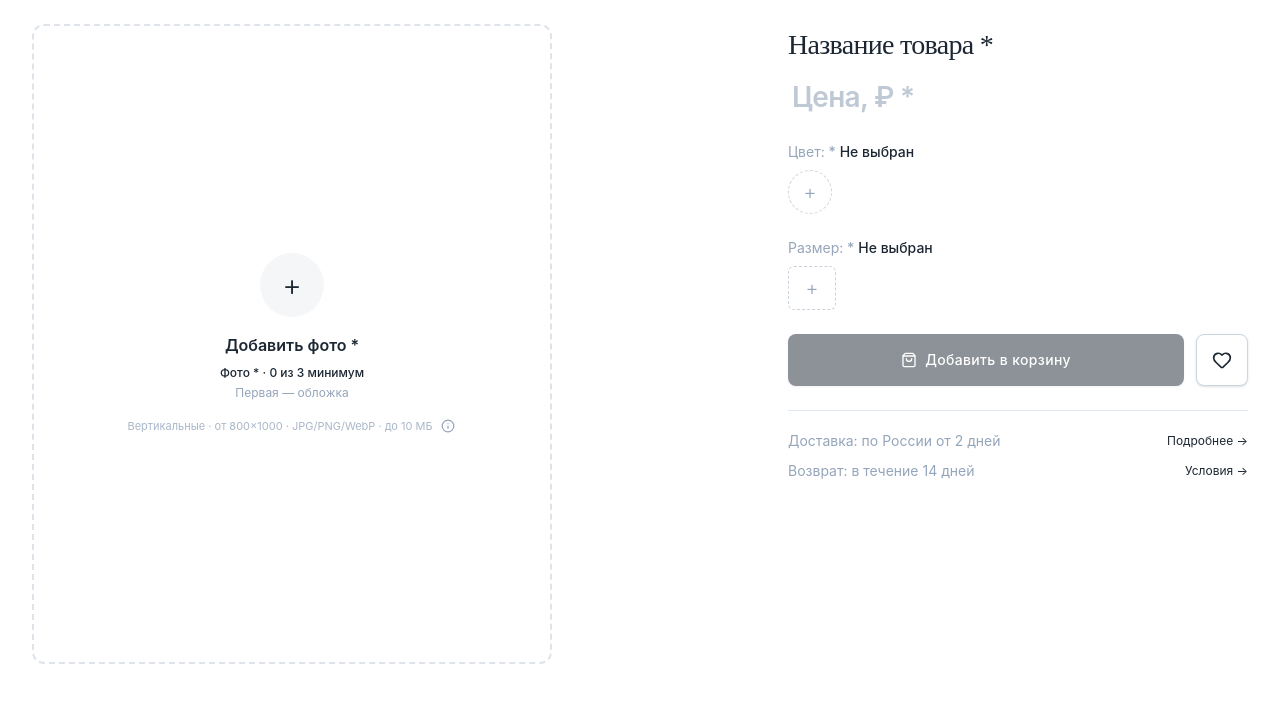
PS.R4A.6B — Validation & Required-State Visual Language › B. Touch title: blur without text transitions title to attention, other fields remain neutral
# Click title heading to activate inline editing
Click the heading "Название товара *" at (891, 44), box [788,29,993,60]
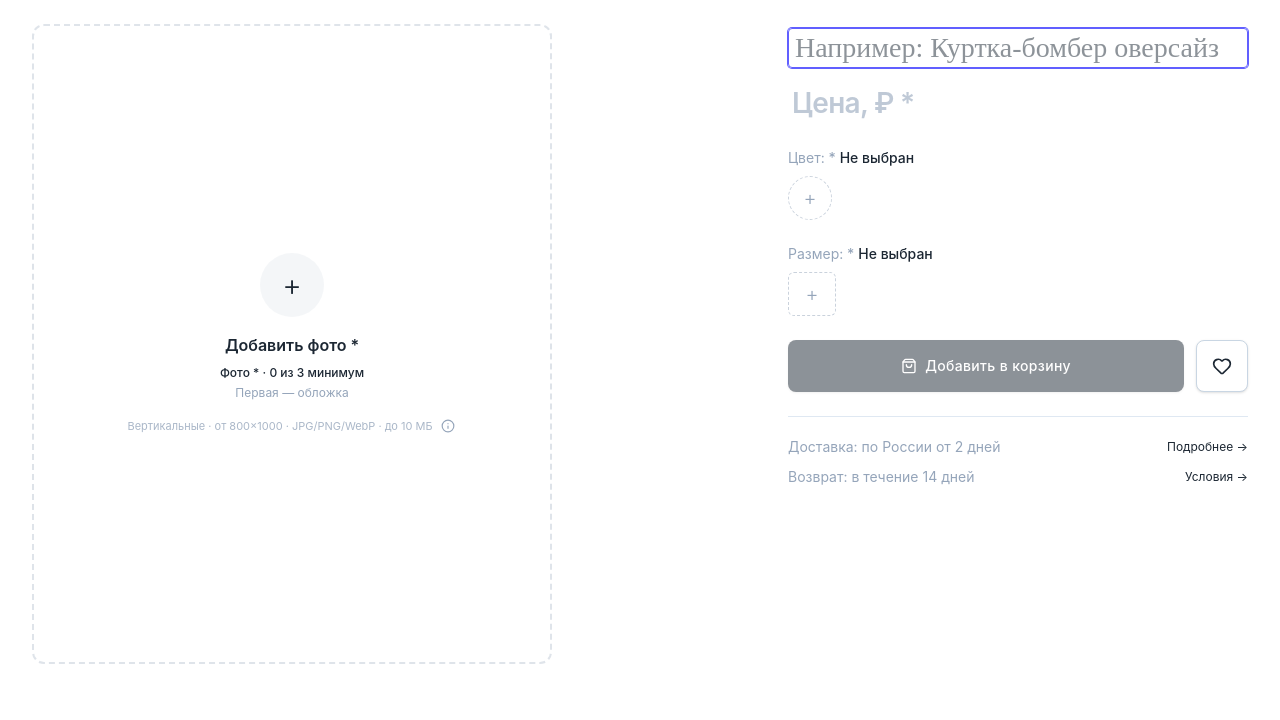
# Find input and blur without typing
Leave the field with test id "visual-inline-input", box [788,28,1248,68]
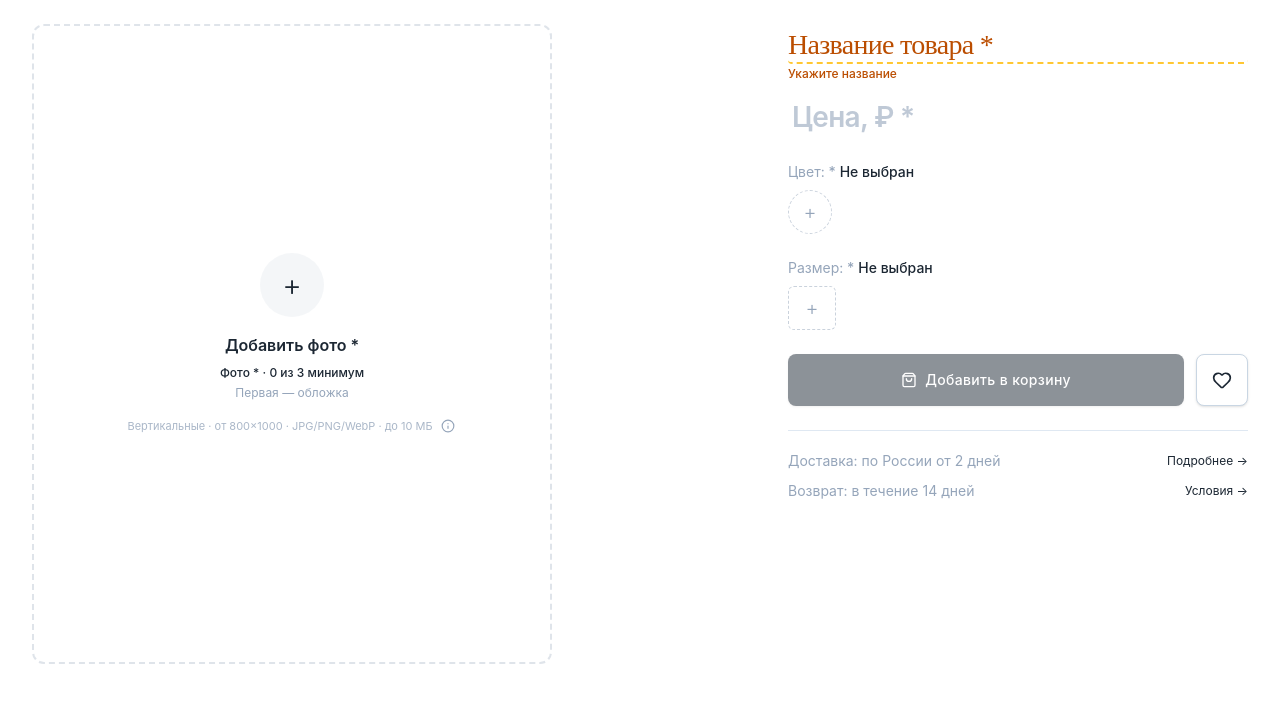
Check: the text with test id "title-required-helper" reads "Укажите название", box [788,66,897,81]
